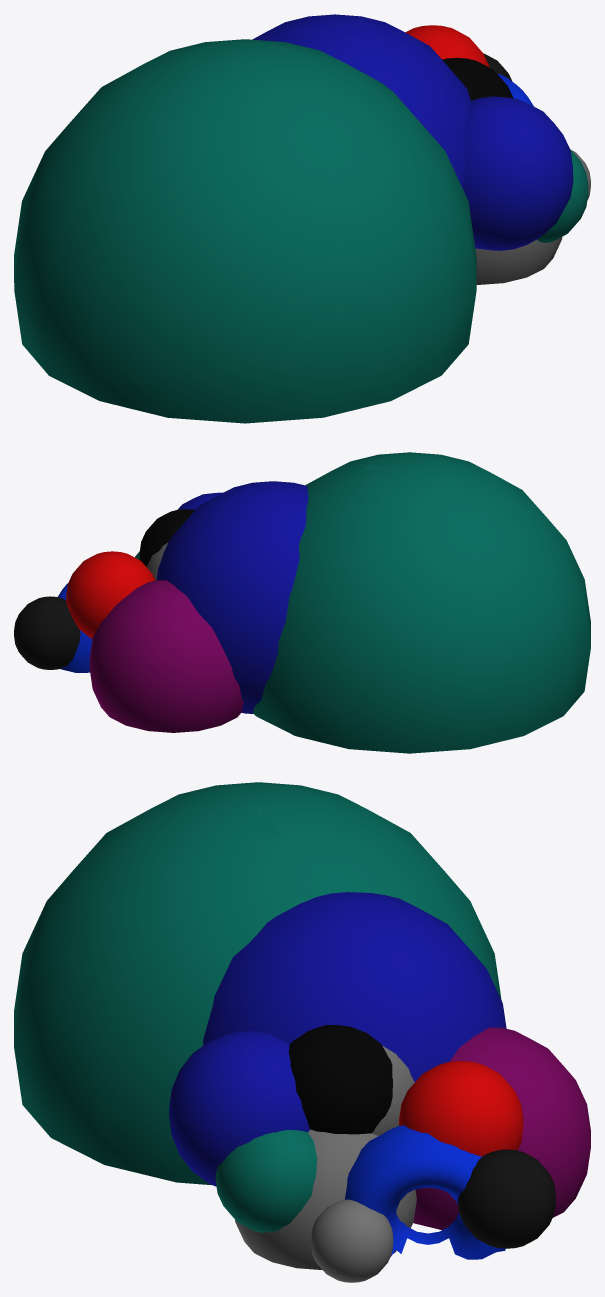
File: startPointOld.dae
3 views of the same model, one above another, from view 1: azimuth 30°, elevation 25°; view 2: azimuth 150°, elevation 25°; view 3: azimuth 270°, elevation 25° (orthographic). The views are drawn at different scales.
Visible parts, largest first — view 1: nurbsToPoly11, nurbsToPoly7, nurbsToPoly8, nurbsToPoly12, nurbsToPoly9, nurbsToPoly10, nurbsToPoly5; view 2: nurbsToPoly11, nurbsToPoly8, nurbsToPoly4, nurbsToPoly9, nurbsToPoly1, nurbsToPoly10, nurbsToPoly2; view 3: nurbsToPoly11, nurbsToPoly8, nurbsToPoly7, nurbsToPoly4, nurbsToPoly2, nurbsToPoly10, nurbsToPoly9, nurbsToPoly5, nurbsToPoly1, nurbsToPoly12, nurbsToPoly13, nurbsToPoly3.
Boxes of the visible parts, x1=… form: nurbsToPoly11: x1=14, y1=39, x2=476, y2=423; nurbsToPoly7: x1=463, y1=96, x2=573, y2=250; nurbsToPoly8: x1=252, y1=14, x2=470, y2=189; nurbsToPoly12: x1=475, y1=237, x2=562, y2=284; nurbsToPoly9: x1=405, y1=25, x2=489, y2=67; nurbsToPoly10: x1=442, y1=57, x2=513, y2=100; nurbsToPoly5: x1=537, y1=149, x2=588, y2=242; nurbsToPoly11: x1=253, y1=452, x2=590, y2=753; nurbsToPoly8: x1=156, y1=481, x2=308, y2=713; nurbsToPoly4: x1=89, y1=580, x2=243, y2=732; nurbsToPoly9: x1=66, y1=551, x2=155, y2=638; nurbsToPoly1: x1=14, y1=596, x2=80, y2=669; nurbsToPoly10: x1=139, y1=509, x2=194, y2=566; nurbsToPoly2: x1=58, y1=583, x2=92, y2=672; nurbsToPoly11: x1=14, y1=782, x2=501, y2=1185; nurbsToPoly8: x1=203, y1=892, x2=506, y2=1081; nurbsToPoly7: x1=169, y1=1031, x2=310, y2=1186; nurbsToPoly4: x1=413, y1=1027, x2=590, y2=1229; nurbsToPoly2: x1=344, y1=1125, x2=505, y2=1259; nurbsToPoly10: x1=288, y1=1025, x2=392, y2=1134; nurbsToPoly9: x1=399, y1=1061, x2=523, y2=1156; nurbsToPoly5: x1=215, y1=1130, x2=317, y2=1232; nurbsToPoly1: x1=457, y1=1149, x2=555, y2=1248; nurbsToPoly12: x1=235, y1=1129, x2=416, y2=1269; nurbsToPoly13: x1=310, y1=1199, x2=393, y2=1282; nurbsToPoly3: x1=372, y1=1046, x2=414, y2=1135.
Size of the model in its own units: 44.62 by 20.28 by 35.82.
